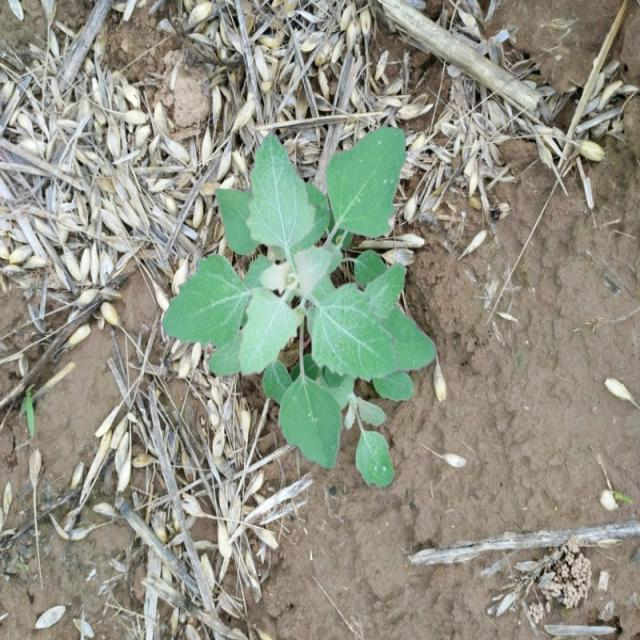goosefoots: (157, 113, 440, 460)
